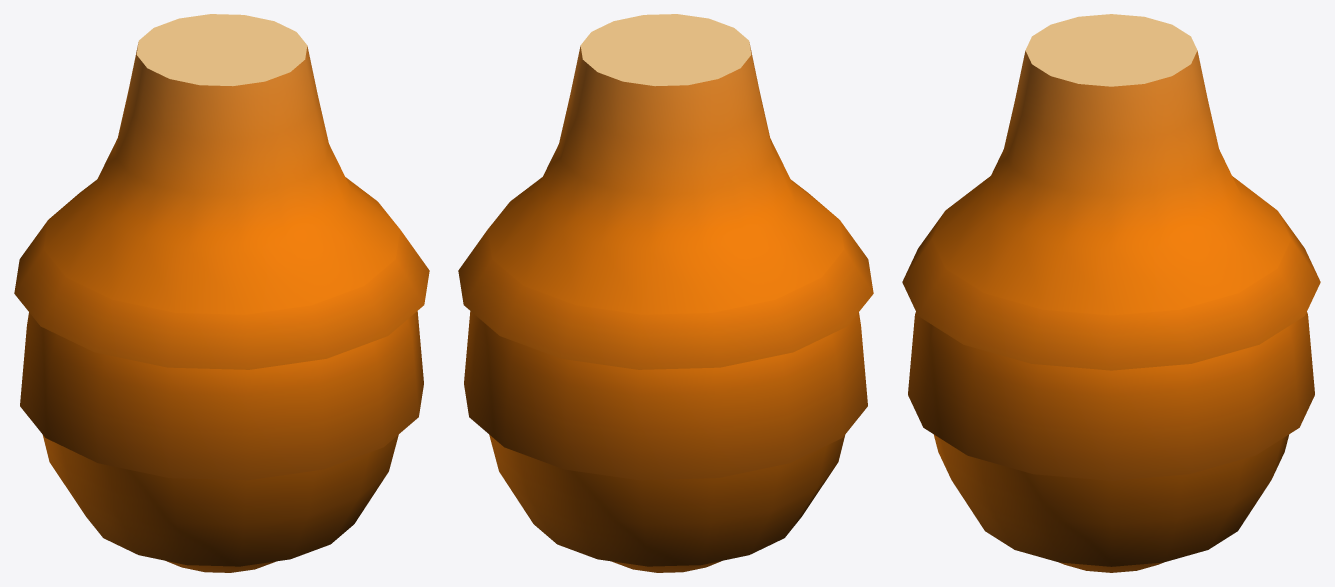
Rendered from Farm_Crop_Taro_01.fbx.
3 renders of one model, left to right at view 1: azimuth 30°, elevation 25°; view 2: azimuth 150°, elevation 25°; view 3: azimuth 270°, elevation 25°, orthographic.
Parts seen in each view (by area): view 1: Farm_Crop_Taro_01; view 2: Farm_Crop_Taro_01; view 3: Farm_Crop_Taro_01.
Boxes of the visible parts, left/top/right/bottom form: Farm_Crop_Taro_01: left=14, top=14, right=429, bottom=572; Farm_Crop_Taro_01: left=458, top=14, right=873, bottom=572; Farm_Crop_Taro_01: left=902, top=14, right=1320, bottom=572.
Size of the model in its own units: 24.65 by 33.38 by 24.65.
